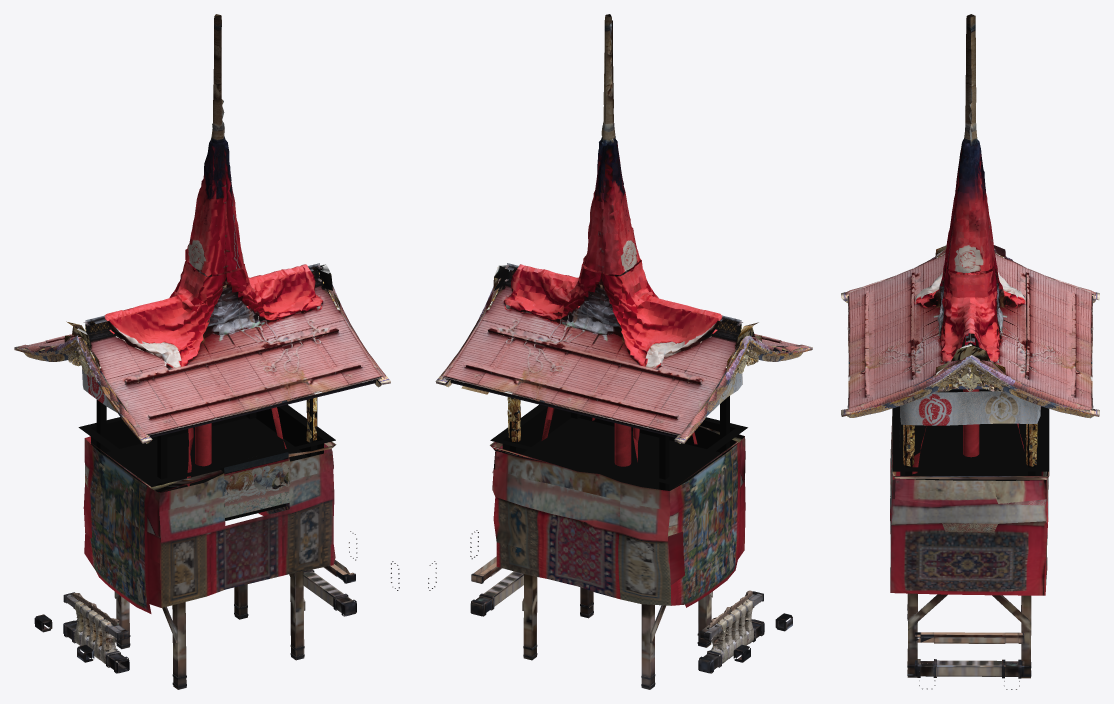
Rendered from kankoboko.glb.
The picture shows the model from 3 angles, left to right: view 1: azimuth 30°, elevation 25°; view 2: azimuth 150°, elevation 25°; view 3: azimuth 270°, elevation 25°; orthographic projection.
Visible parts, largest first — view 1: Object_5, Object_19, Object_15, Object_21, Object_31, Object_16, Object_10, Object_7, Object_29, Object_3, Object_20, Object_6 (+5 smaller); view 2: Object_5, Object_19, Object_15, Object_21, Object_31, Object_16, Object_7, Object_29, Object_3, Object_20, Object_6, Object_14 (+4 smaller); view 3: Object_19, Object_5, Object_21, Object_15, Object_31, Object_16, Object_11, Object_3, Object_7, Object_6, Object_24, Object_20 (+5 smaller).
Part boxes in pixels (<box>): Object_5: <box>83,436,336,613</box>; Object_19: <box>28,281,382,434</box>; Object_15: <box>104,260,323,369</box>; Object_21: <box>78,397,335,520</box>; Object_31: <box>34,531,399,689</box>; Object_16: <box>185,140,243,276</box>; Object_10: <box>220,449,289,517</box>; Object_7: <box>45,328,360,418</box>; Object_29: <box>71,593,119,663</box>; Object_3: <box>14,279,390,443</box>; Object_20: <box>210,14,225,143</box>; Object_6: <box>18,287,385,438</box>; Object_5: <box>490,425,745,607</box>; Object_19: <box>444,286,797,434</box>; Object_15: <box>503,260,721,368</box>; Object_21: <box>490,396,747,490</box>; Object_31: <box>428,530,792,689</box>; Object_16: <box>583,140,641,275</box>; Object_7: <box>465,328,781,418</box>; Object_29: <box>705,590,754,663</box>; Object_3: <box>435,287,812,443</box>; Object_20: <box>600,14,615,143</box>; Object_6: <box>442,278,808,438</box>; Object_14: <box>503,263,742,342</box>; Object_19: <box>849,252,1091,408</box>; Object_5: <box>890,409,1049,595</box>; Object_21: <box>892,389,1049,480</box>; Object_15: <box>915,257,1025,363</box>; Object_31: <box>907,593,1031,689</box>; Object_16: <box>945,139,995,273</box>; Object_11: <box>900,391,1040,425</box>; Object_3: <box>841,287,1099,418</box>; Object_7: <box>864,272,1076,396</box>; Object_6: <box>845,251,1096,412</box>; Object_24: <box>926,355,1015,390</box>; Object_20: <box>963,14,977,145</box>.
Size of the model in its own units: 5.33 by 10.24 by 3.77.
Materials: 26 (25 with a texture image).
